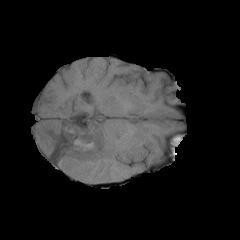glioma: (37, 118, 148, 176)
